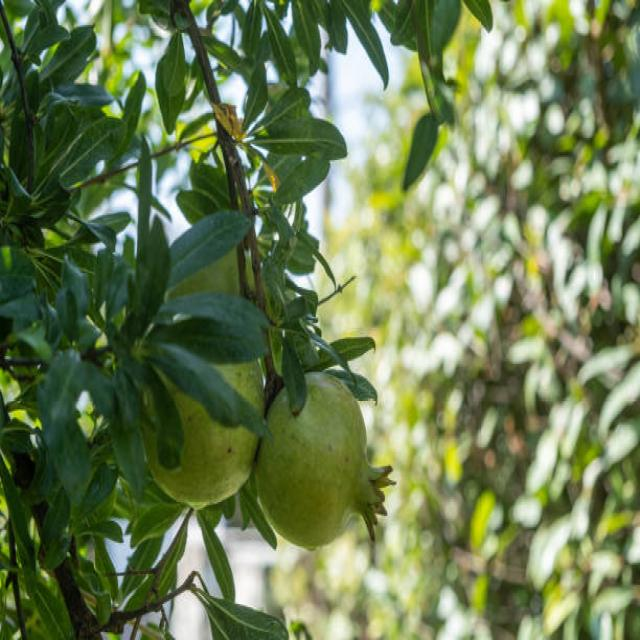Unripe: (254, 367, 396, 548)
